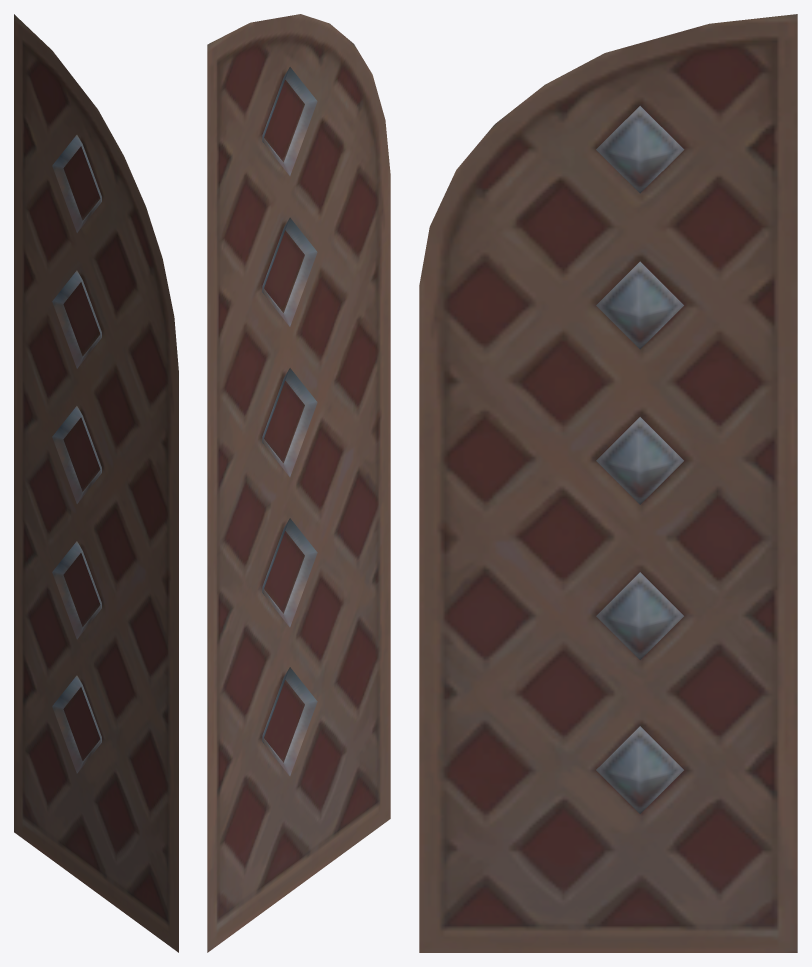
Rendered from PuertaIzq.obj.
The picture shows the model from 3 angles, left to right: view 1: azimuth 30°, elevation 25°; view 2: azimuth 150°, elevation 25°; view 3: azimuth 270°, elevation 25°; orthographic projection. The views are drawn at different scales.
Parts seen in each view (by area): view 1: pasted__polySurface192 group; view 2: pasted__polySurface192 group; view 3: pasted__polySurface192 group.
Boxes of the visible parts, bbox=[...] form: pasted__polySurface192 group: bbox=[14, 14, 178, 952]; pasted__polySurface192 group: bbox=[207, 14, 390, 952]; pasted__polySurface192 group: bbox=[419, 14, 797, 952].
Size of the model in its own units: 0.14 by 4.28 by 1.56.
1 material, 1 textured.
